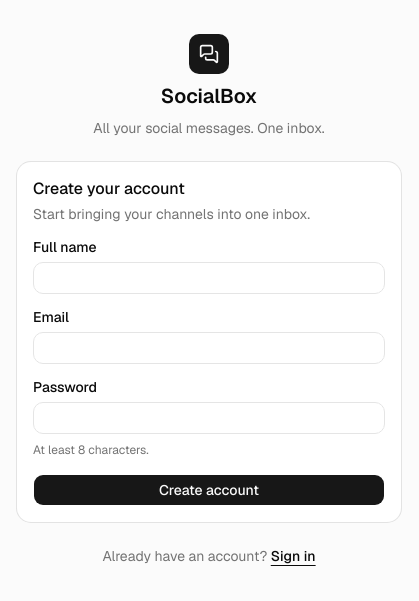
Register page › shows the server's reason, e.g. an email that is already registered
Type "Ann" into the field labelled "Full name" at (209, 278), box x1=33 y1=262 x2=385 y2=294
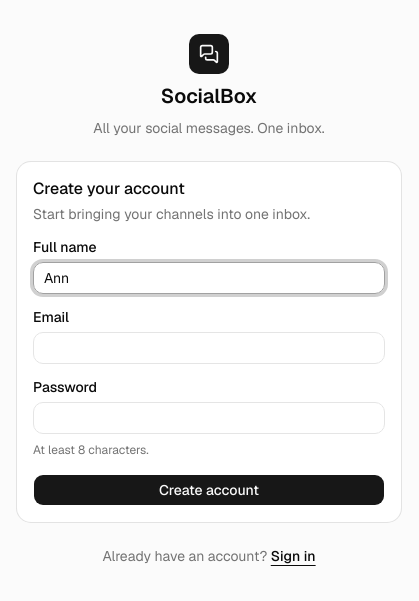
Type "ann@x.com" into the field labelled "Email" at (209, 348), box x1=33 y1=332 x2=385 y2=364
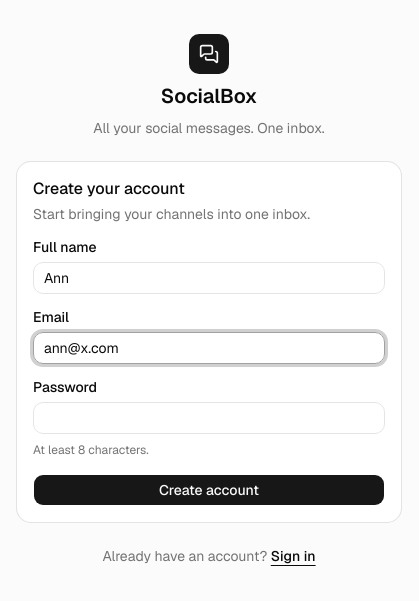
Type "password123" into the password field labelled "Password" at (209, 418), box x1=33 y1=402 x2=385 y2=434
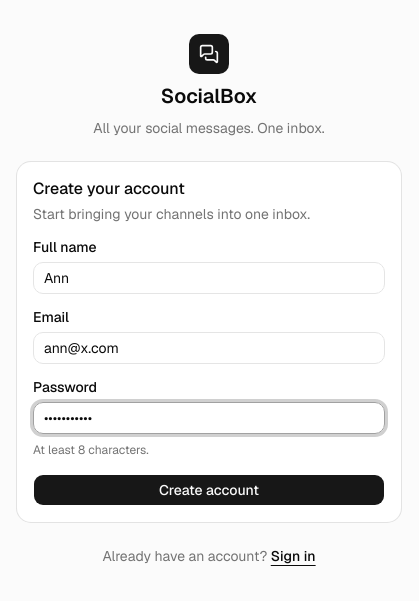
Click the button "Create account" at (209, 490), box x1=33 y1=474 x2=385 y2=506
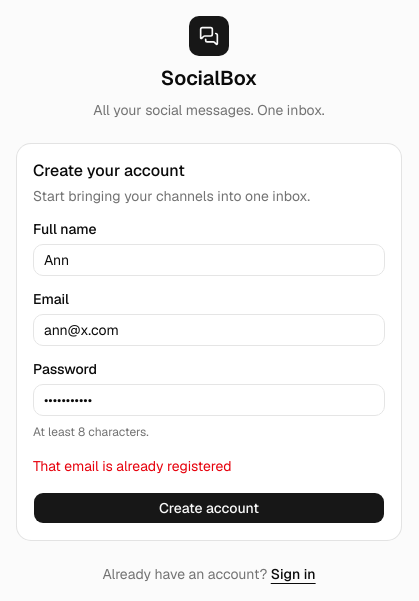
Check: the text "That email is already registered" is shown, box x1=33 y1=457 x2=232 y2=475
